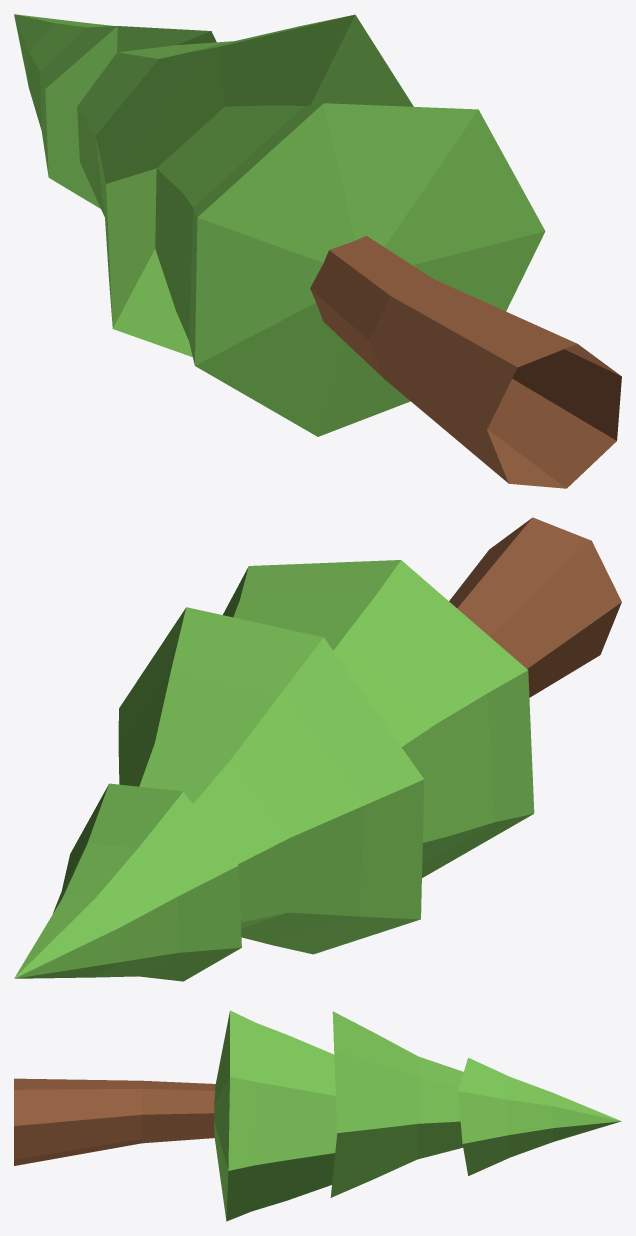
Rendered from SM_Tree2Rotated.FBX.
The picture shows the model from 3 angles, top to bottom: view 1: azimuth 30°, elevation 25°; view 2: azimuth 150°, elevation 25°; view 3: azimuth 270°, elevation 25°; orthographic projection. The views are drawn at different scales.
Visible parts, largest first — view 1: SM_Tree2; view 2: SM_Tree2; view 3: SM_Tree2.
Part boxes in pixels (x1=…): SM_Tree2: x1=14, y1=14, x2=621, y2=488; SM_Tree2: x1=14, y1=517, x2=621, y2=981; SM_Tree2: x1=14, y1=1010, x2=621, y2=1221.
Bounding box in the file's own units: 52.74 × 141 × 47.71.
